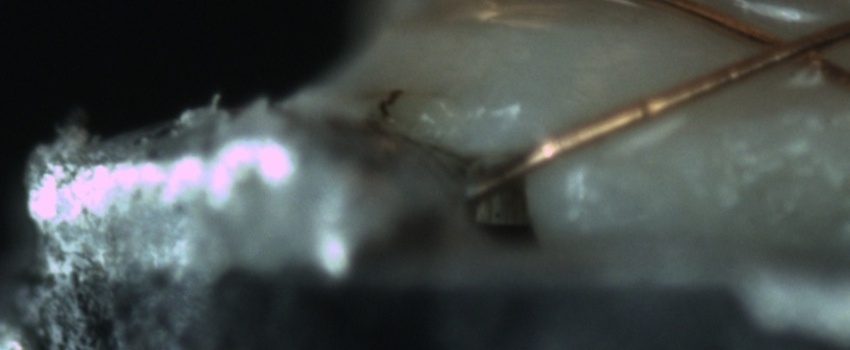CL: (743, 16, 842, 78)
